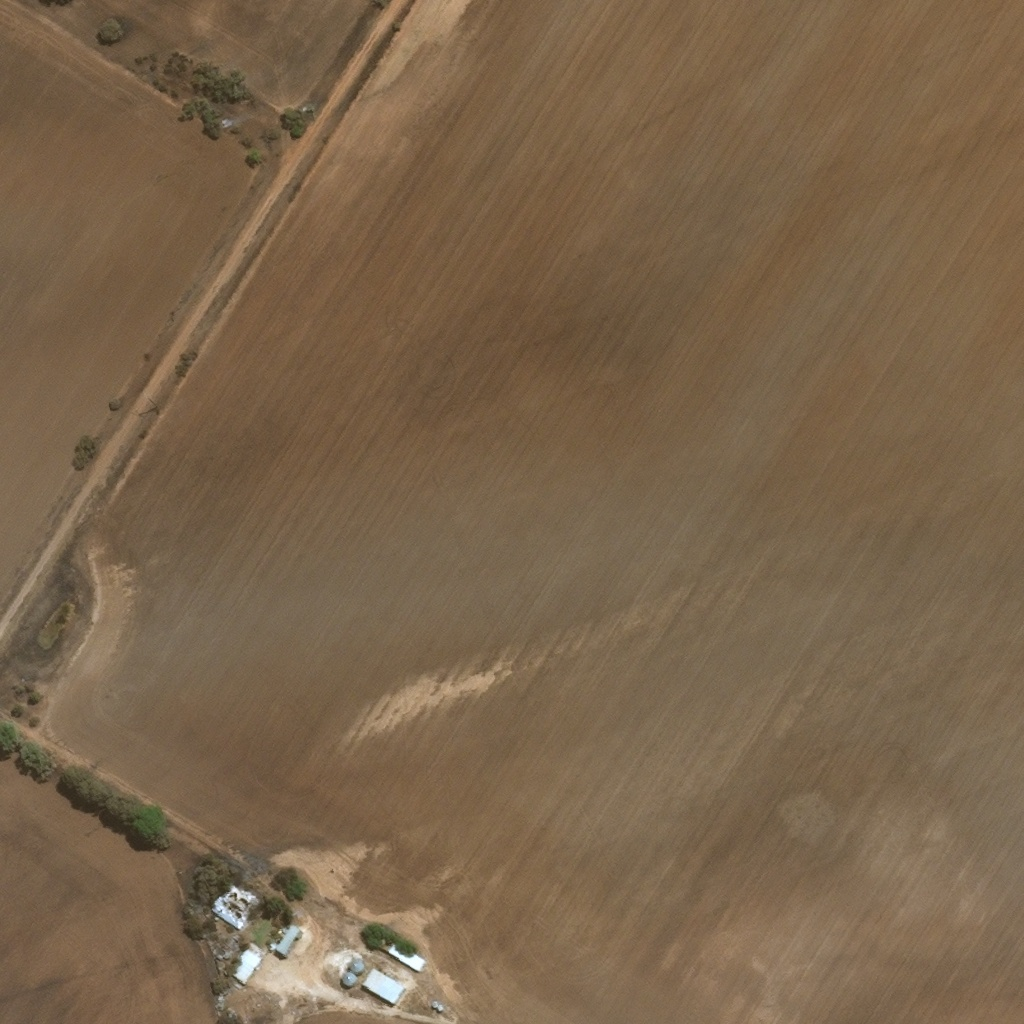0 no-damage: (361, 965, 405, 1006), (268, 922, 302, 957), (387, 940, 424, 970), (341, 969, 357, 985), (349, 957, 363, 969), (430, 998, 438, 1006), (436, 1004, 442, 1009)
2 major-damage: (226, 945, 263, 984)
3 destroyed: (208, 883, 252, 929)
